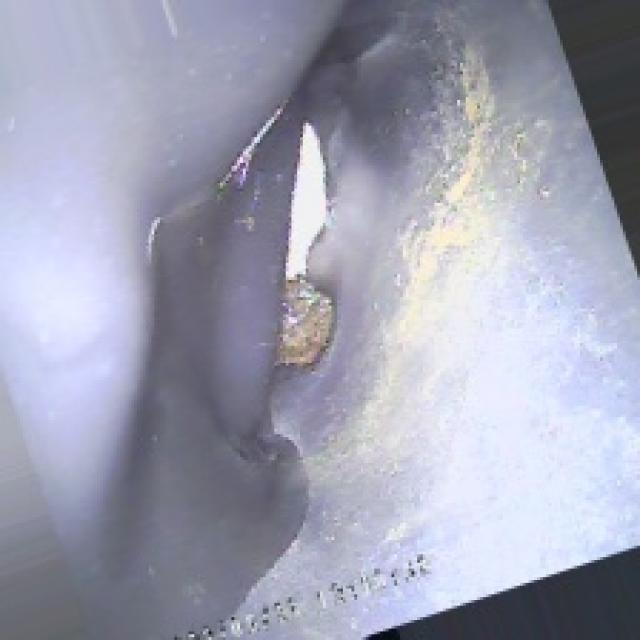shape_deformation: (83, 29, 548, 460)
